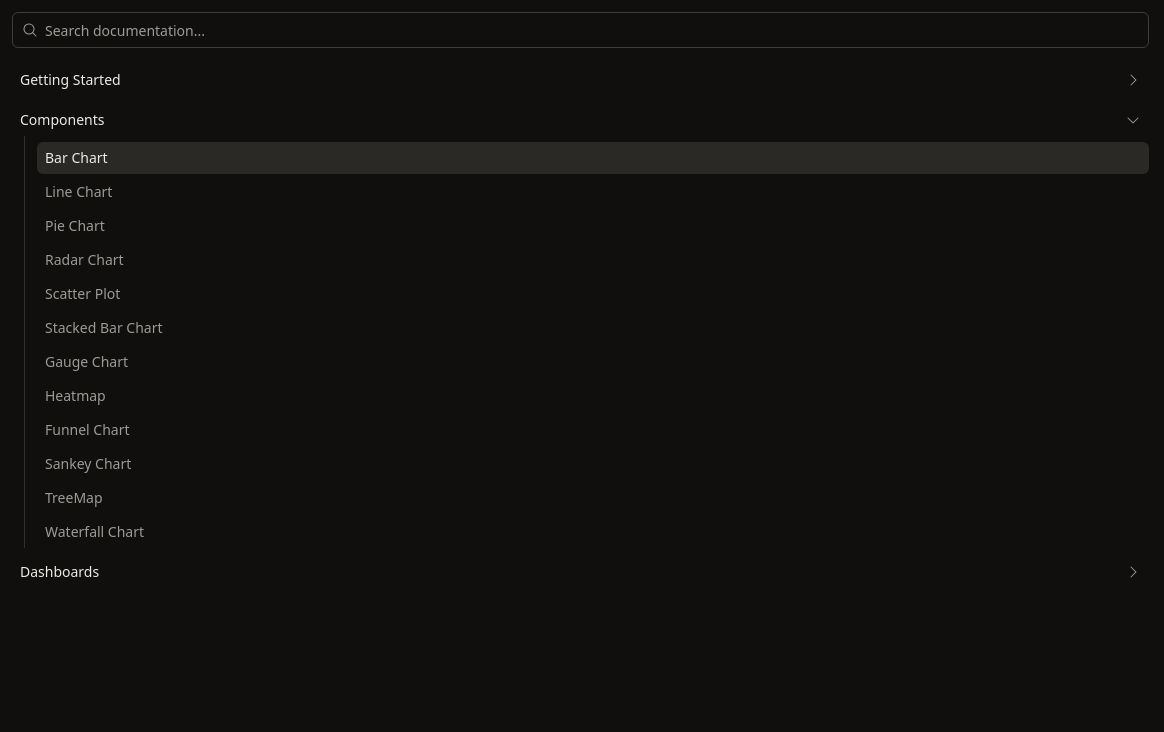
Scenario: DocsSidebarNav › labels search and filters component links
The image size is (1164, 732).
Type "heatmap" into the search field labelled "Search documentation" at (580, 30), box [12,12,1149,48]
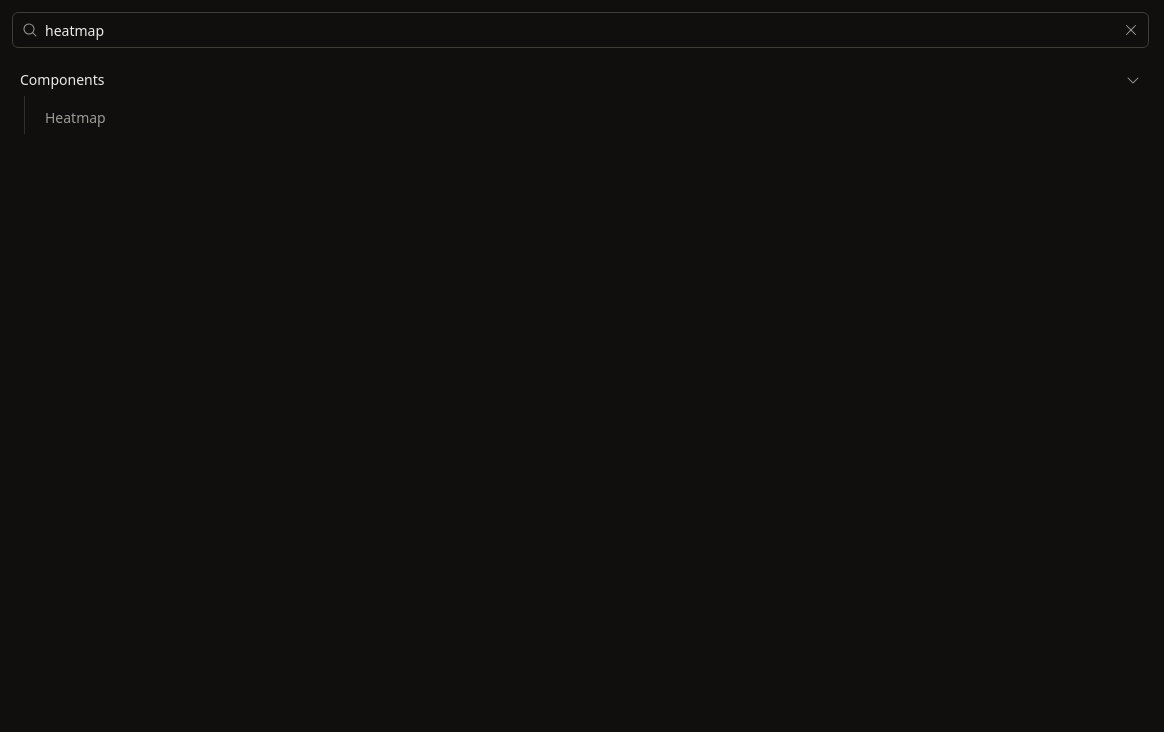
Expected: the link "Heatmap" is shown, [45,108,106,127]
Expected: the link "Bar Chart" is gone
